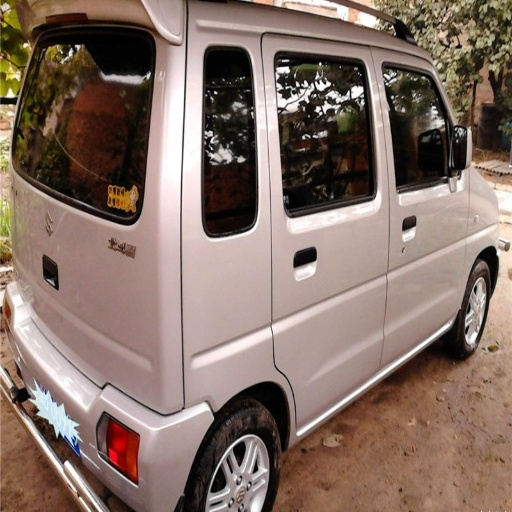back_bumper: (141, 422, 203, 501), (21, 194, 101, 237)
trunk: (58, 220, 288, 332)
